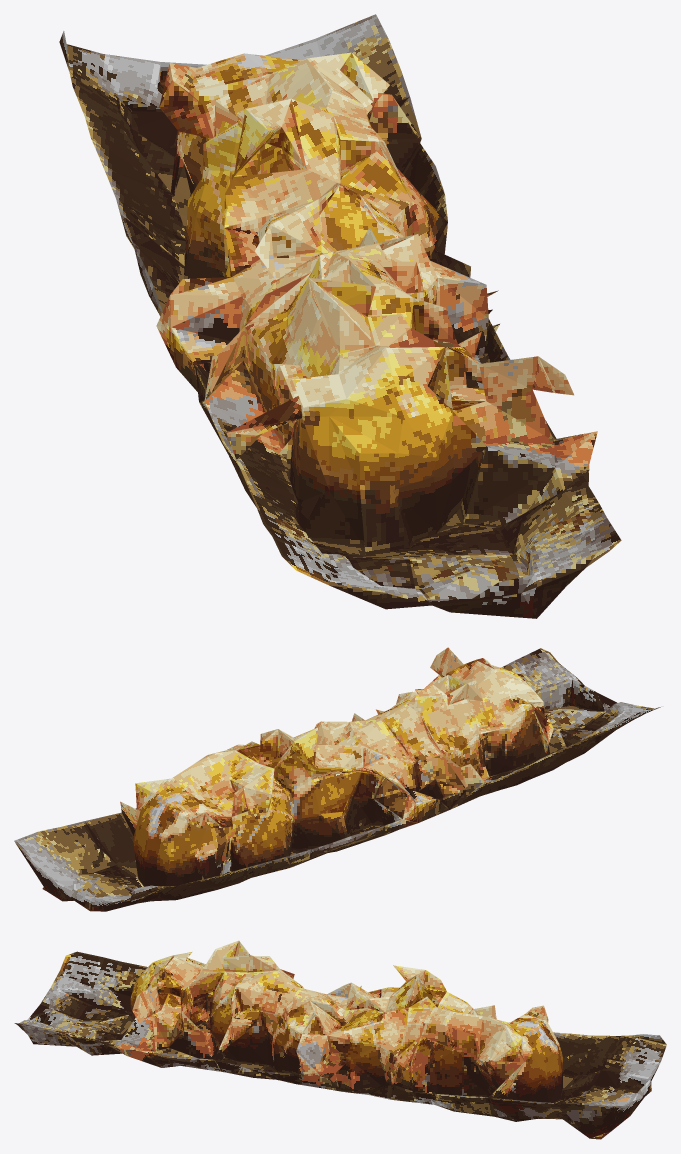
The model's file is takoyaki.glb.
3 views of the same model, one above another, from view 1: azimuth 30°, elevation 25°; view 2: azimuth 150°, elevation 25°; view 3: azimuth 270°, elevation 25° (orthographic). The views are drawn at different scales.
Parts seen in each view (by area): view 1: model_food; view 2: model_food; view 3: model_food.
Part boxes in pixels (box(x1,y1,x2,y2)): model_food: box(59, 14, 621, 618); model_food: box(14, 647, 660, 911); model_food: box(14, 940, 666, 1139).
Bounding box in the file's own units: 24.74 × 7.98 × 44.47.
Materials: 1 (1 with a texture image).
